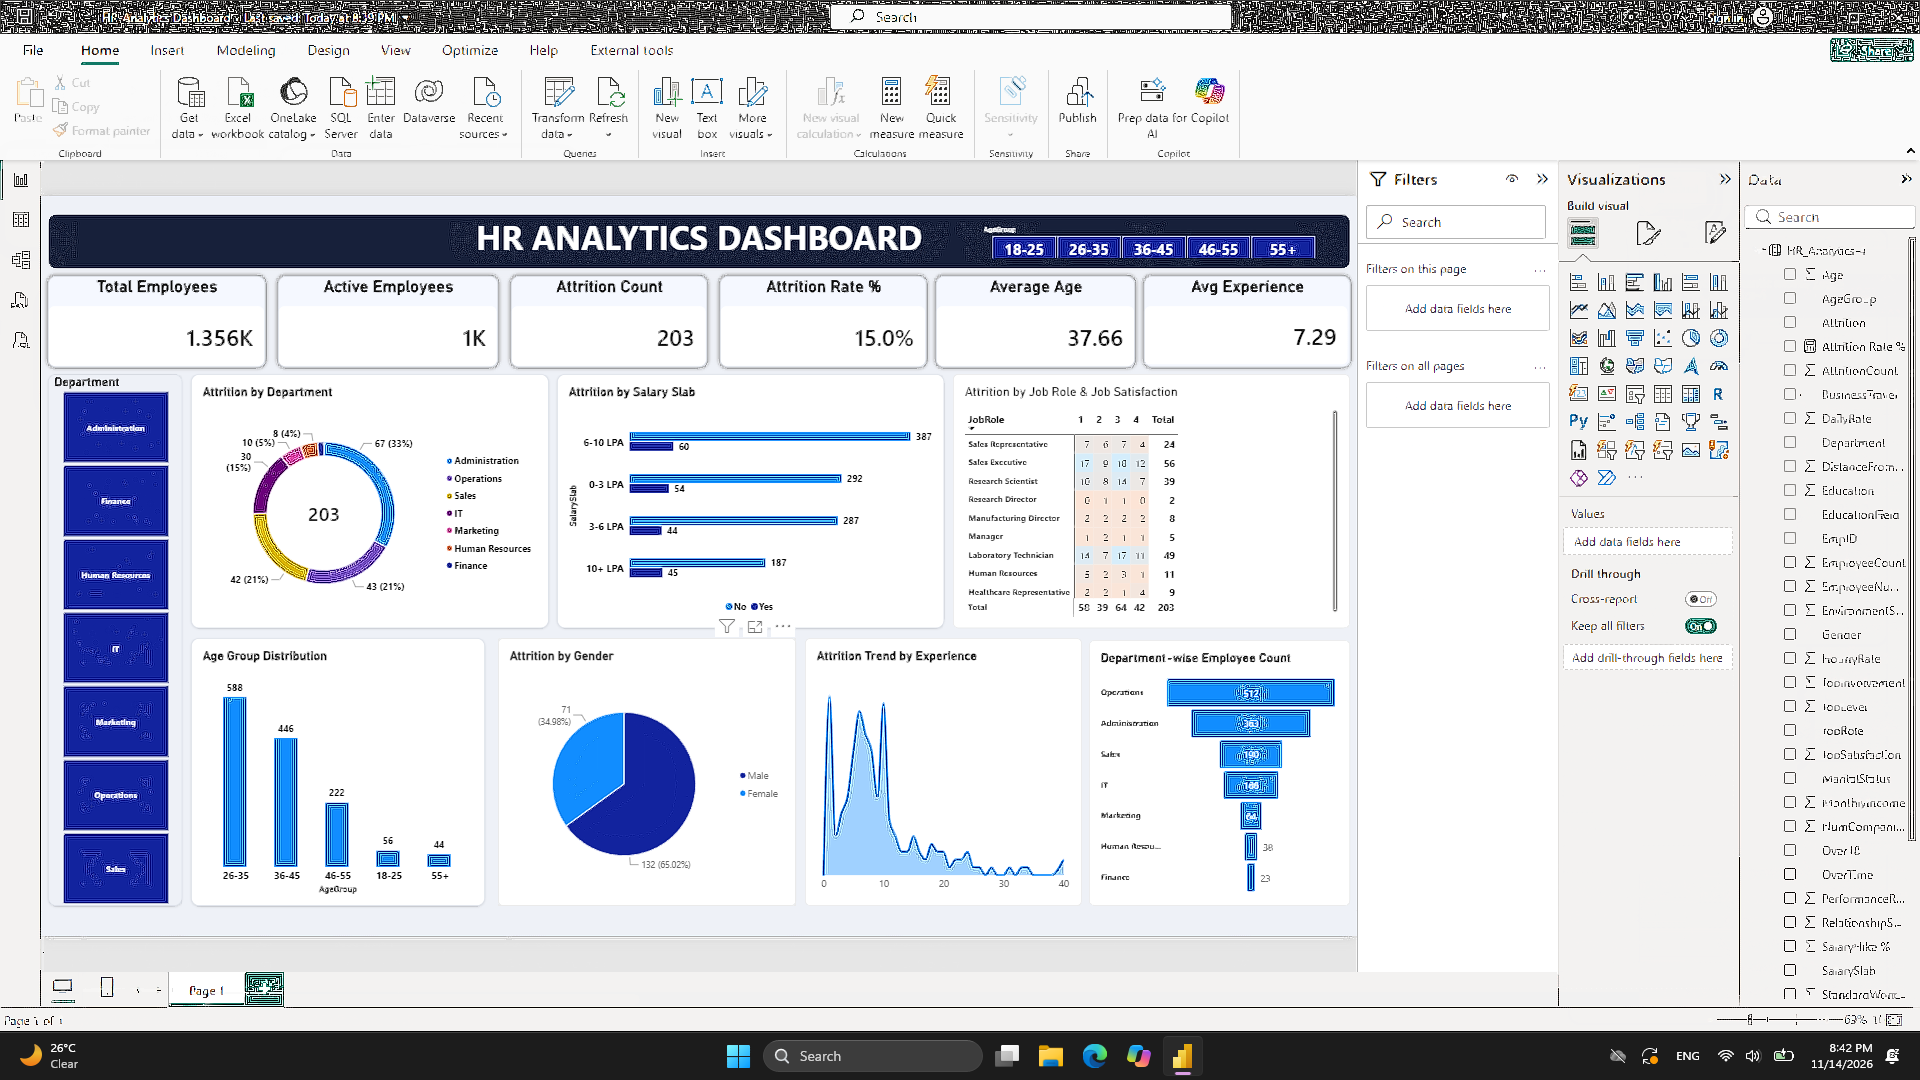

Layout of this report page (visuals, bound fields, positions):
{"tool":"powerbi","page":{"name":"Page 1","canvas":[1920,1080],"ordinal":0},"visuals":[{"type":"textbox","box":[33.3,20,1858.3,86.7],"z":0},{"type":"cardVisual","title":"Total Employees","fields":{"Data":["CountNonNull(HR_Analytics-4.EmpID)"]},"box":[33.3,116.7,293.3,133.3],"z":1000},{"type":"cardVisual","title":"Average Age","fields":{"Data":["Avg(HR_Analytics-4.Age)"]},"box":[1305.8,116.7,290.3,132.8],"z":2000},{"type":"cardVisual","title":"Avg Experience","fields":{"Data":["Avg(HR_Analytics-4.YearsatCompany)"]},"box":[1610,116.7,281.7,133.3],"z":3000},{"type":"cardVisual","title":"Active Employees","fields":{"Data":["Sum(HR_Analytics-4.EmployeeCount)"]},"box":[345.8,116.7,321,132.8],"z":4000},{"type":"cardVisual","title":"Attrition Count","fields":{"Data":["Sum(HR_Analytics-4.AttritionCount)"]},"box":[685.7,116.7,286,132.8],"z":5000},{"type":"cardVisual","title":"Attrition Rate %","fields":{"Data":["HR_Analytics-4.Attrition Rate %"]},"box":[990.6,116.7,300.5,132.8],"z":6000},{"type":"donutChart","title":"Attrition by Department","fields":{"Category":["HR_Analytics-4.Department"],"Y":["Sum(HR_Analytics-4.AttritionCount)"]},"box":[237.8,259.7,578.3,370],"z":7000},{"type":"clusteredBarChart","title":"Attrition by Salary Slab","fields":{"Category":["HR_Analytics-4.SalarySlab"],"Series":["HR_Analytics-4.Attrition"],"Y":["CountNonNull(HR_Analytics-4.EmpID)"]},"box":[828.3,260,575,370],"z":8000},{"type":"pivotTable","title":"Attrition by Job Role & Job Satisfaction","fields":{"Columns":["HR_Analytics-4.JobSatisfaction"],"Rows":["HR_Analytics-4.JobRole"],"Values":["Sum(HR_Analytics-4.AttritionCount)"]},"box":[1413.3,260,478.3,370],"z":9000},{"type":"columnChart","title":"Age Group Distribution","fields":{"Category":["HR_Analytics-4.AgeGroup"],"Y":["Sum(HR_Analytics-4.EmployeeCount)"]},"box":[238.3,645,428.3,395],"z":9001},{"type":"pieChart","title":"Attrition by Gender","fields":{"Category":["HR_Analytics-4.Gender"],"Y":["Sum(HR_Analytics-4.AttritionCount)"]},"box":[673.3,645,443.3,391.7],"z":9002},{"type":"areaChart","title":"Attrition Trend by Experience","fields":{"Category":["HR_Analytics-4.TotalExperience(Years)"],"Y2":["Sum(HR_Analytics-4.AttritionCount)"]},"box":[1128.3,645,390,391.7],"z":9003},{"type":"funnel","title":"Department-wise Employee Count","fields":{"Category":["HR_Analytics-4.Department"],"Y":["CountNonNull(HR_Analytics-4.EmpID)"]},"box":[1531.7,645,378.3,391.7],"z":9004},{"type":"slicer","fields":{"Values":["HR_Analytics-4.Department"]},"box":[33.3,260,193.3,776.7],"z":9005},{"type":"slicer","fields":{"Values":["HR_Analytics-4.AgeGroup"]},"box":[1358.3,33.3,520,56.7],"z":9006}]}

Visuals, with their boxes on the page's 1920x1080 design canvas (x1, y1, x2, y2). These are canvas units, not pixel positions in the 1920x1080 screenshot, which may show the page scaled, cropped or inside an application window:
textbox: (33, 20, 1892, 107)
"Total Employees" cardVisual: (33, 117, 327, 250)
"Average Age" cardVisual: (1306, 117, 1596, 250)
"Avg Experience" cardVisual: (1610, 117, 1892, 250)
"Active Employees" cardVisual: (346, 117, 667, 250)
"Attrition Count" cardVisual: (686, 117, 972, 250)
"Attrition Rate %" cardVisual: (991, 117, 1291, 250)
"Attrition by Department" donutChart: (238, 260, 816, 630)
"Attrition by Salary Slab" clusteredBarChart: (828, 260, 1403, 630)
"Attrition by Job Role & Job Satisfaction" pivotTable: (1413, 260, 1892, 630)
"Age Group Distribution" columnChart: (238, 645, 667, 1040)
"Attrition by Gender" pieChart: (673, 645, 1117, 1037)
"Attrition Trend by Experience" areaChart: (1128, 645, 1518, 1037)
"Department-wise Employee Count" funnel: (1532, 645, 1910, 1037)
slicer - HR_Analytics-4.Department: (33, 260, 227, 1037)
slicer - HR_Analytics-4.AgeGroup: (1358, 33, 1878, 90)
